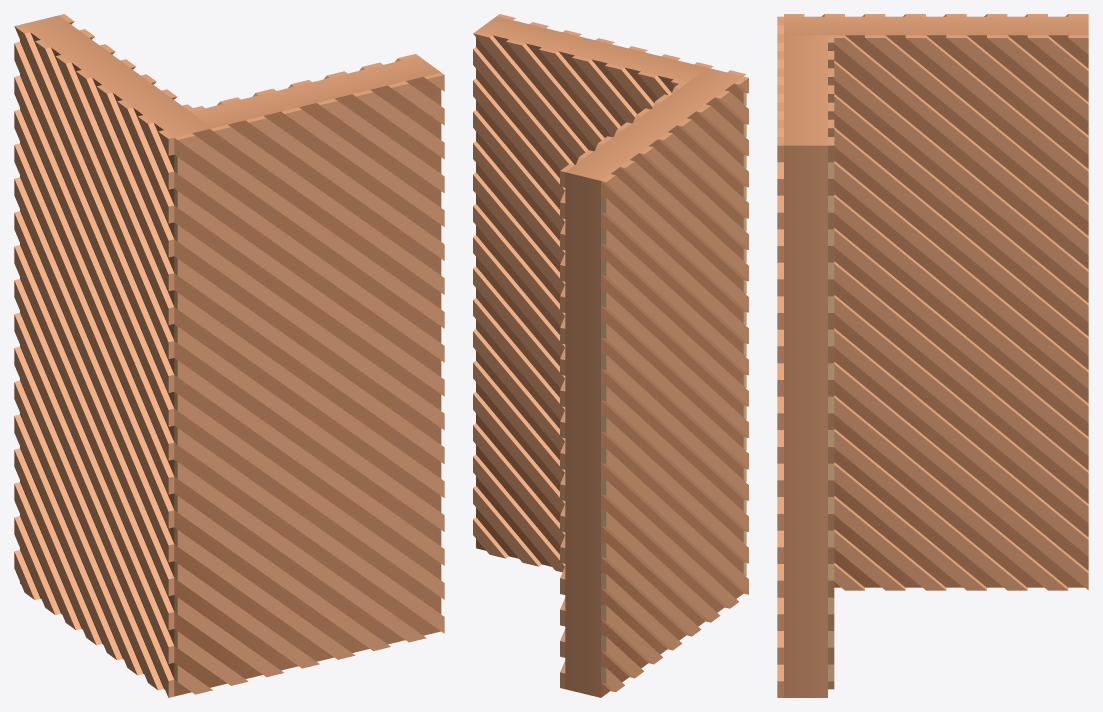
File: DiagonalBoardCorner.glb
The picture shows the model from 3 angles, left to right: view 1: azimuth 30°, elevation 25°; view 2: azimuth 150°, elevation 25°; view 3: azimuth 270°, elevation 25°; orthographic projection. The views are drawn at different scales.
Visible parts, largest first — view 1: wall_diagonalBoard_corner; view 2: wall_diagonalBoard_corner; view 3: wall_diagonalBoard_corner.
Part boxes in pixels (x1=…): wall_diagonalBoard_corner: x1=14, y1=14, x2=444, y2=697; wall_diagonalBoard_corner: x1=473, y1=14, x2=748, y2=697; wall_diagonalBoard_corner: x1=777, y1=14, x2=1088, y2=697.
Size of what is drawn, in the model's own units: 2.04 by 4 by 2.04.
1 material, 1 textured.
